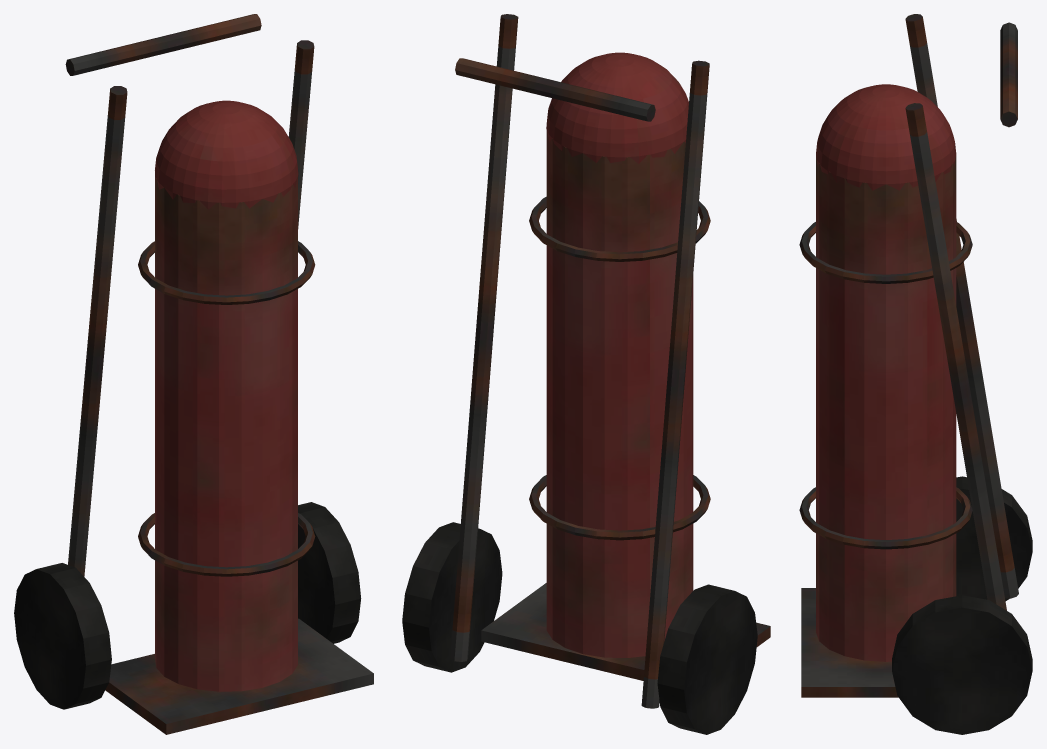
Rendered from HM12_GasCylinderTrolley.glb.
3 renders of one model, left to right at view 1: azimuth 30°, elevation 25°; view 2: azimuth 150°, elevation 25°; view 3: azimuth 270°, elevation 25°, orthographic. The views are drawn at different scales.
Parts seen in each view (by area): view 1: HM12_GasCylinderTrolley; view 2: HM12_GasCylinderTrolley; view 3: HM12_GasCylinderTrolley.
Part boxes in pixels (x1,y1,x2,y2): HM12_GasCylinderTrolley: (14, 14, 373, 734); HM12_GasCylinderTrolley: (402, 14, 770, 734); HM12_GasCylinderTrolley: (799, 14, 1032, 734).
Bounding box in the file's own units: 0.5549 × 1.2 × 0.4167.
3 materials, 3 textured.
